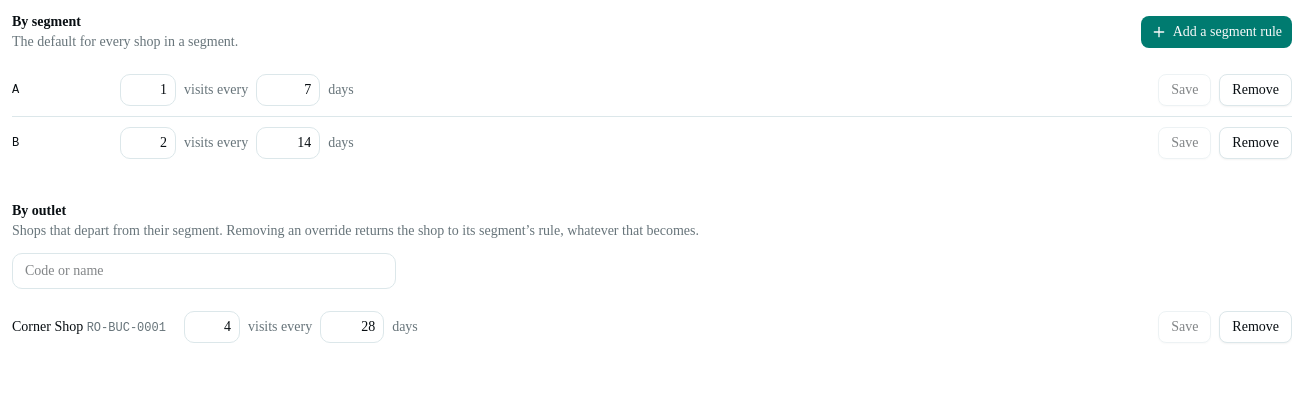
Test: <CallFrequencies> › says a new segment collides before the server does
Click the button "Add a segment rule" at coordinates (1216, 32), box [1141,16,1292,48]
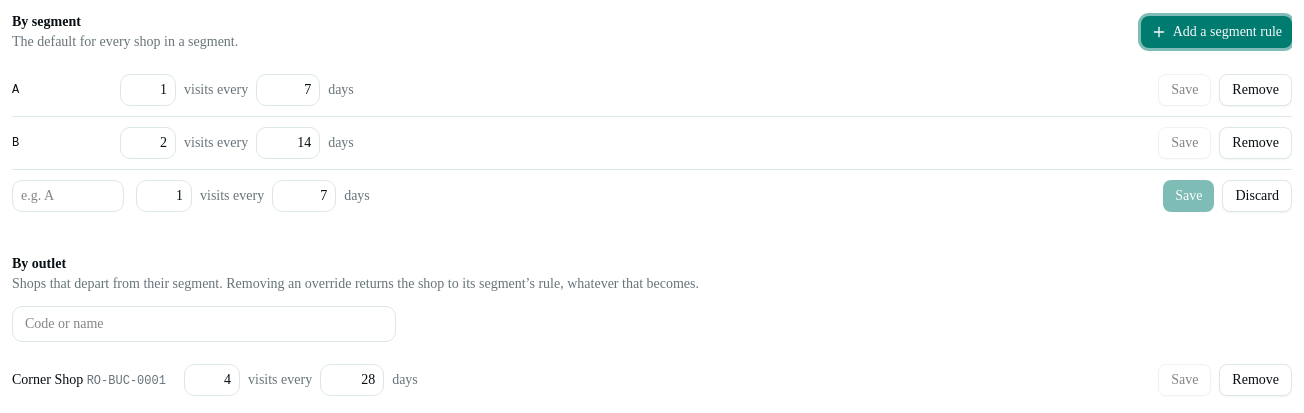
Type "a" into the field named "Segment" at coordinates (68, 196), box [12,180,124,212]
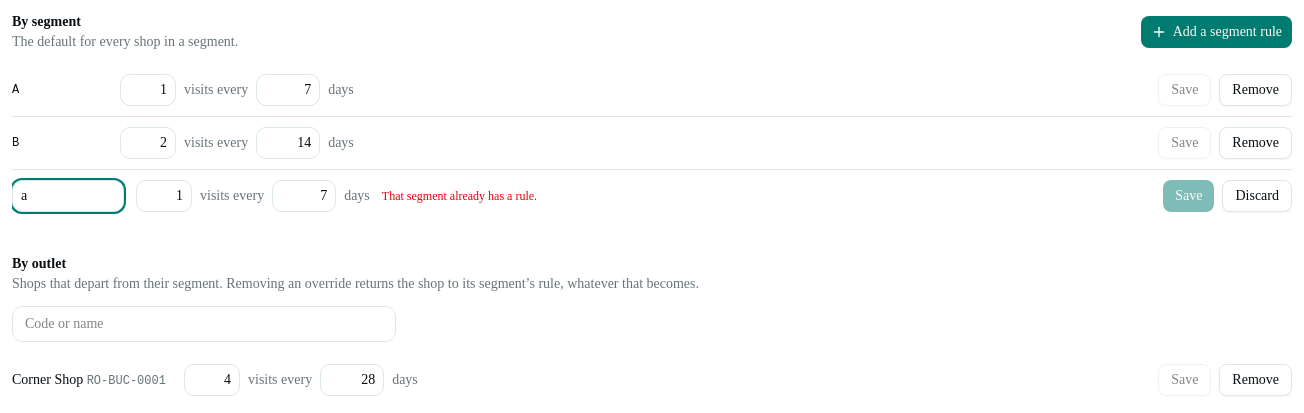
Check: the text "That segment already has a rule." is shown, box [382,188,537,204]
